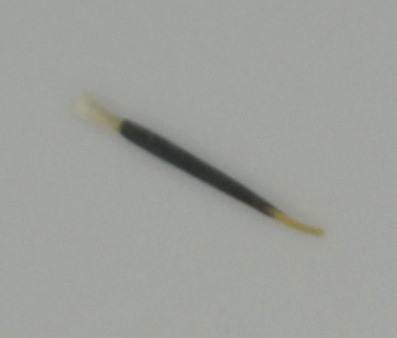เมล็ดดีเรียวยาว: (37, 74, 329, 236)
